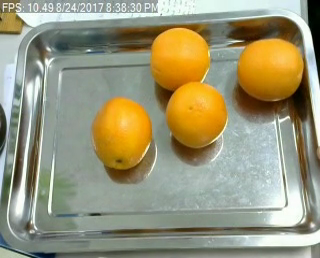Orange: (90, 97, 152, 170), (164, 81, 227, 149), (238, 38, 304, 101), (149, 26, 211, 90)
